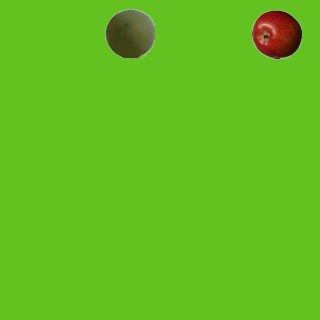Apple Braeburn: (251, 9, 301, 59)
Grape White 4: (104, 8, 154, 58)
